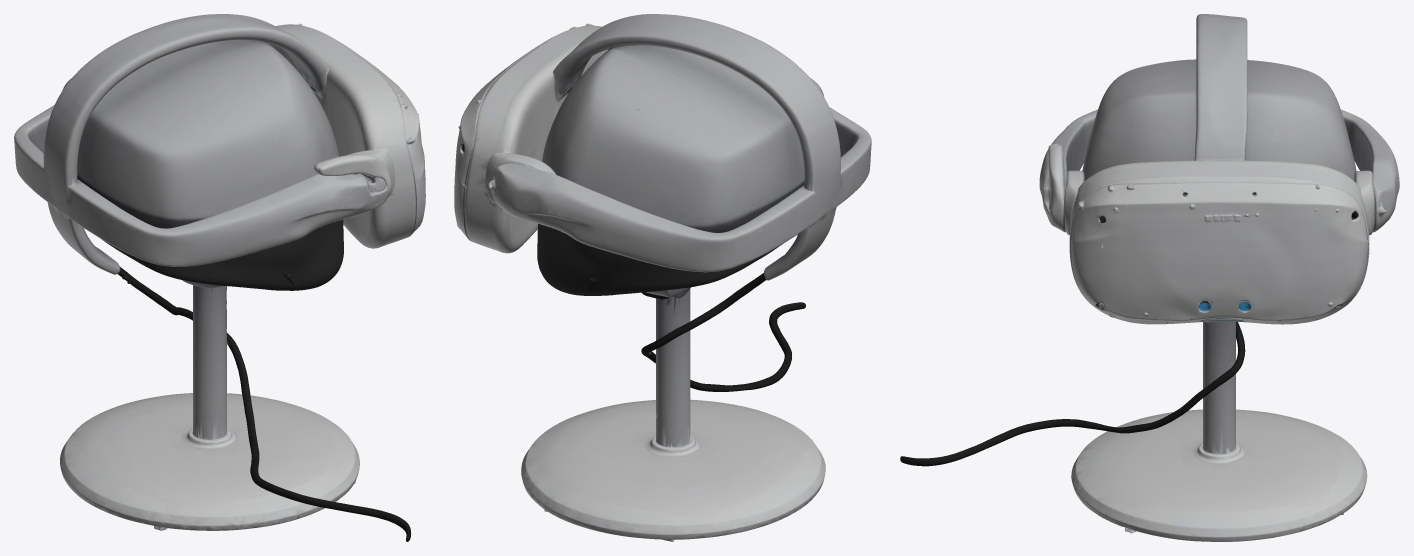
The model's file is quest-3.glb.
3 renders of one model, left to right at view 1: azimuth 30°, elevation 25°; view 2: azimuth 150°, elevation 25°; view 3: azimuth 270°, elevation 25°, orthographic. The views are drawn at different scales.
Parts seen in each view (by area): view 1: tripo_node_14143cc4-352b-4a05-8c2e-6a9b9cc6cb08; view 2: tripo_node_14143cc4-352b-4a05-8c2e-6a9b9cc6cb08; view 3: tripo_node_14143cc4-352b-4a05-8c2e-6a9b9cc6cb08.
Part boxes in pixels (x1,y1,x2,y2): tripo_node_14143cc4-352b-4a05-8c2e-6a9b9cc6cb08: (14,14,425,541); tripo_node_14143cc4-352b-4a05-8c2e-6a9b9cc6cb08: (454,14,871,541); tripo_node_14143cc4-352b-4a05-8c2e-6a9b9cc6cb08: (900,14,1399,541).
Bounding box in the file's own units: 0.7292 × 0.9706 × 1.
1 material, 1 textured.
